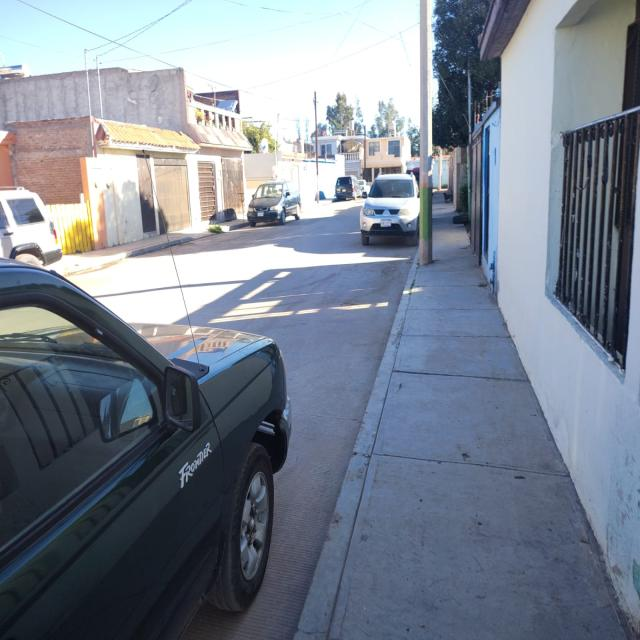Auto: (0, 252, 288, 640), (0, 183, 64, 269), (362, 175, 423, 243), (245, 177, 300, 222), (334, 174, 360, 202), (335, 173, 360, 202)
